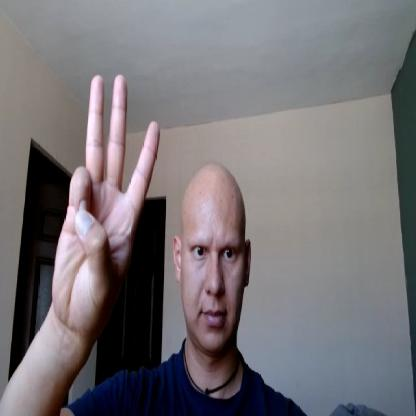W: (51, 70, 159, 340)
